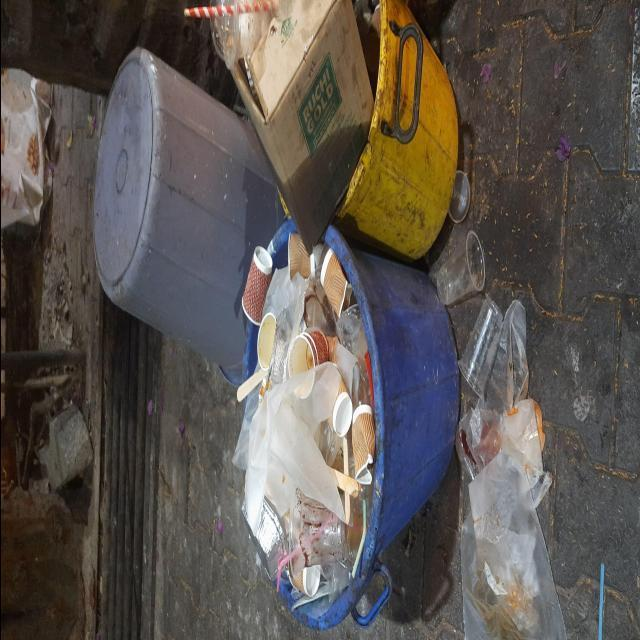Disposable: (289, 488, 361, 578), (458, 296, 502, 396), (335, 304, 372, 410), (436, 231, 484, 304), (314, 421, 341, 467), (448, 172, 470, 223)
Garbage: (231, 236, 376, 620), (455, 296, 565, 640), (436, 231, 484, 304), (448, 172, 469, 223)
Metal: (241, 497, 288, 580), (258, 310, 291, 402)
Plastic_Bag: (455, 299, 551, 507), (460, 451, 565, 640), (244, 361, 344, 534), (262, 266, 305, 337), (231, 386, 259, 469), (304, 277, 335, 337), (334, 340, 359, 407), (320, 561, 351, 605)
Plastic_Straw: (275, 545, 301, 591), (351, 499, 365, 578)
